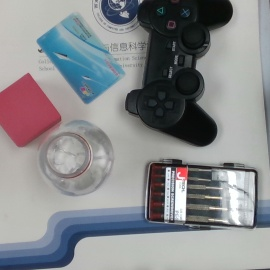bottle: (37, 120, 114, 197)
card: (37, 11, 126, 103)
remote: (124, 1, 232, 146)
